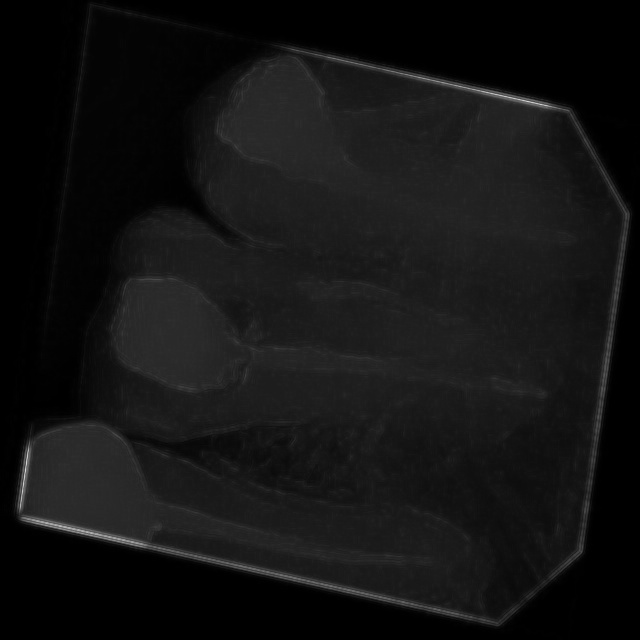Class 0- No endodontic treatment: (152, 27, 618, 349)
Class 1- complete endodontic treatment: (68, 180, 582, 544)
